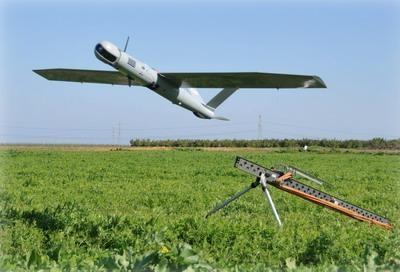Airplane: (25, 32, 342, 128)
